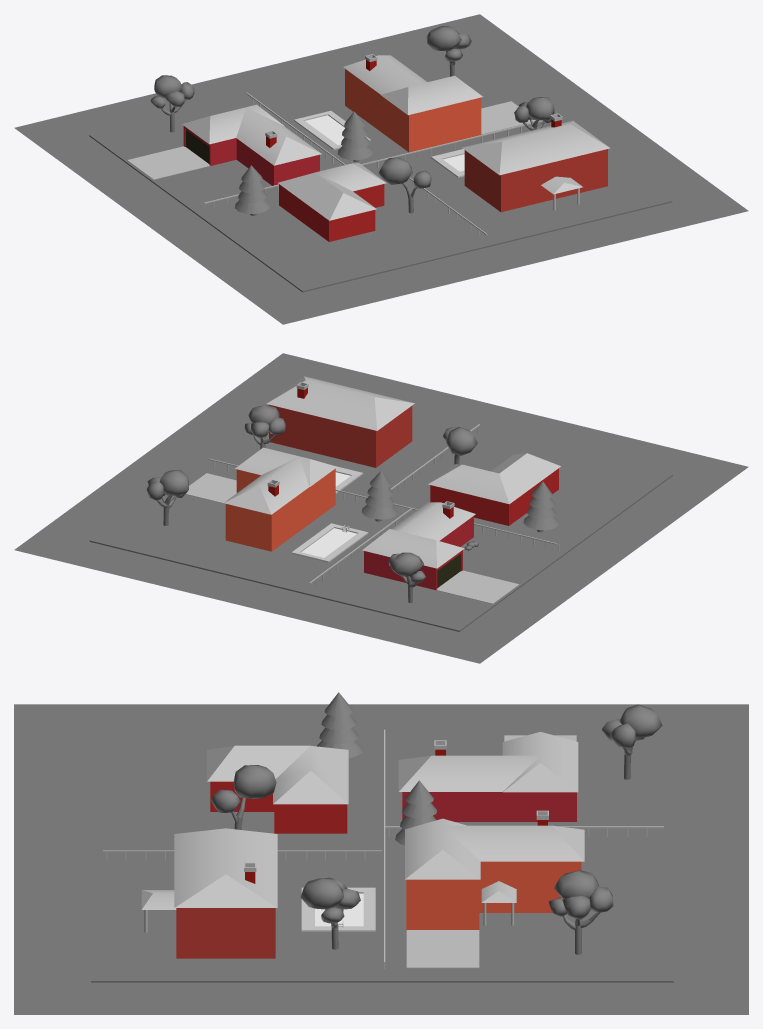
Rendered from Houses_BO-HP.fbx.
3 views of the same model, one above another, from view 1: azimuth 30°, elevation 25°; view 2: azimuth 150°, elevation 25°; view 3: azimuth 270°, elevation 25° (orthographic). The views are drawn at different scales.
Parts seen in each view (by area): view 1: Houses_BO; view 2: Houses_BO; view 3: Houses_BO.
Part boxes in pixels (x1=…): Houses_BO: x1=14, y1=14, x2=748, y2=324; Houses_BO: x1=14, y1=353, x2=748, y2=663; Houses_BO: x1=14, y1=692, x2=748, y2=1014.
Size of the model in its own units: 100 by 12.69 by 100.
